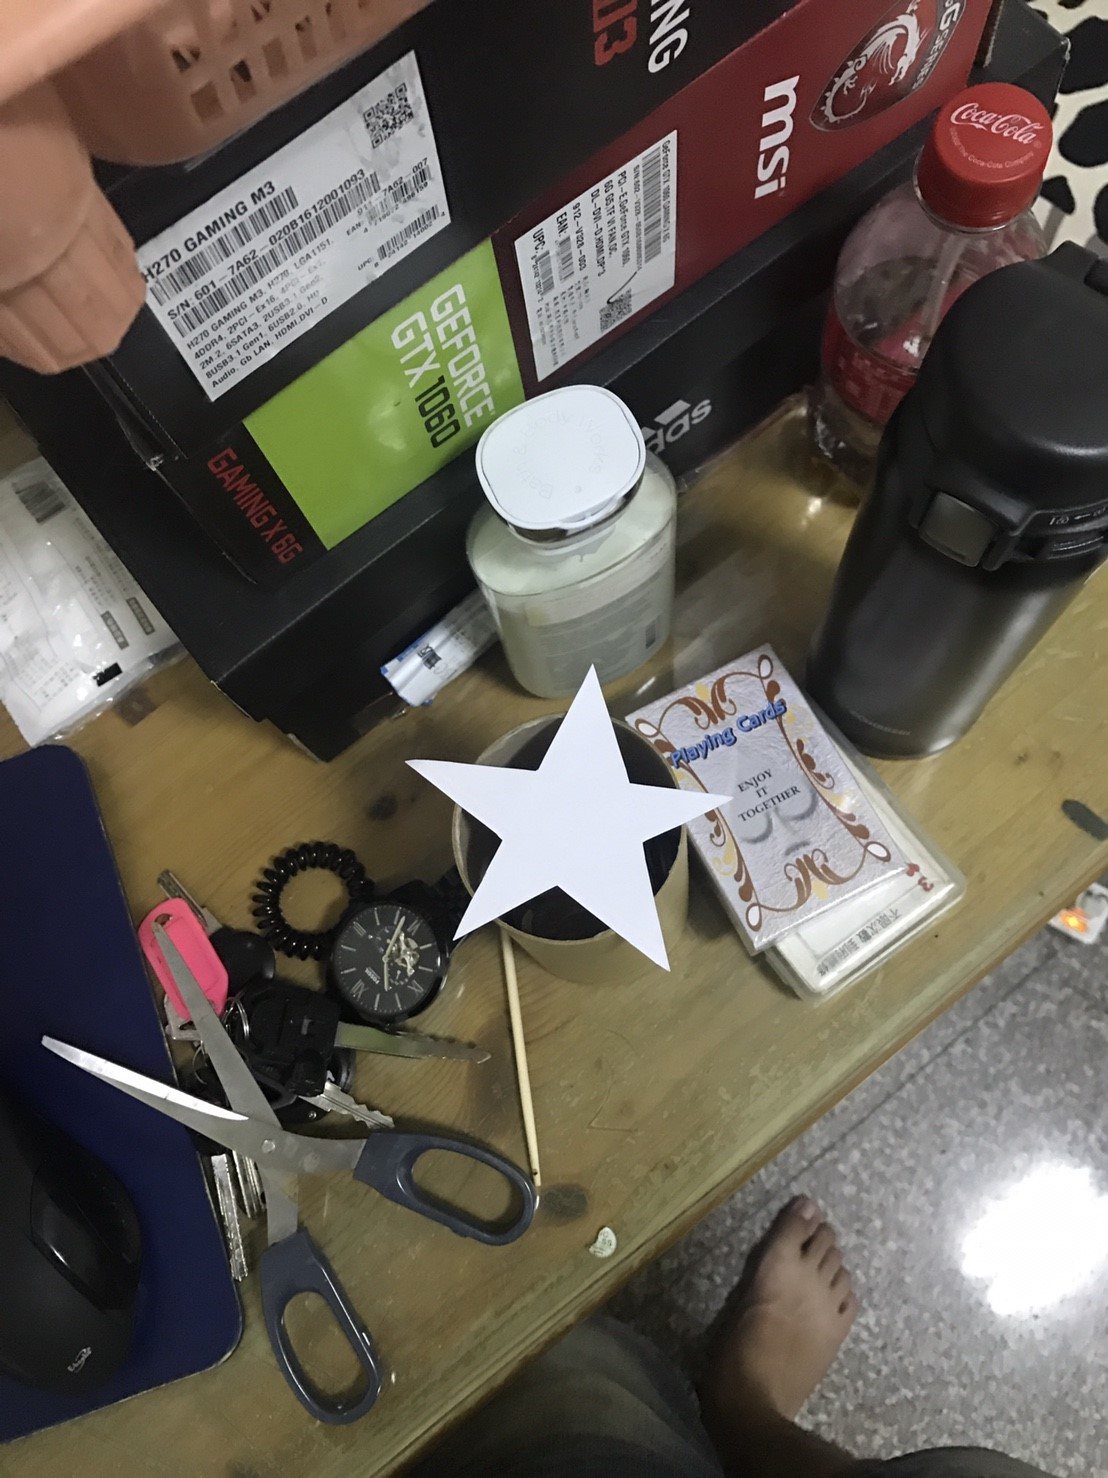star: (379, 665, 746, 981)
